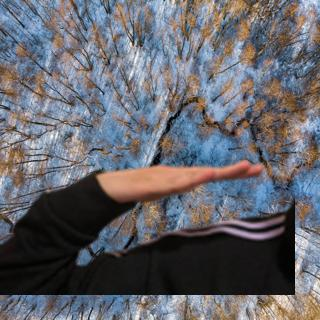Wait: (94, 148, 267, 210)
